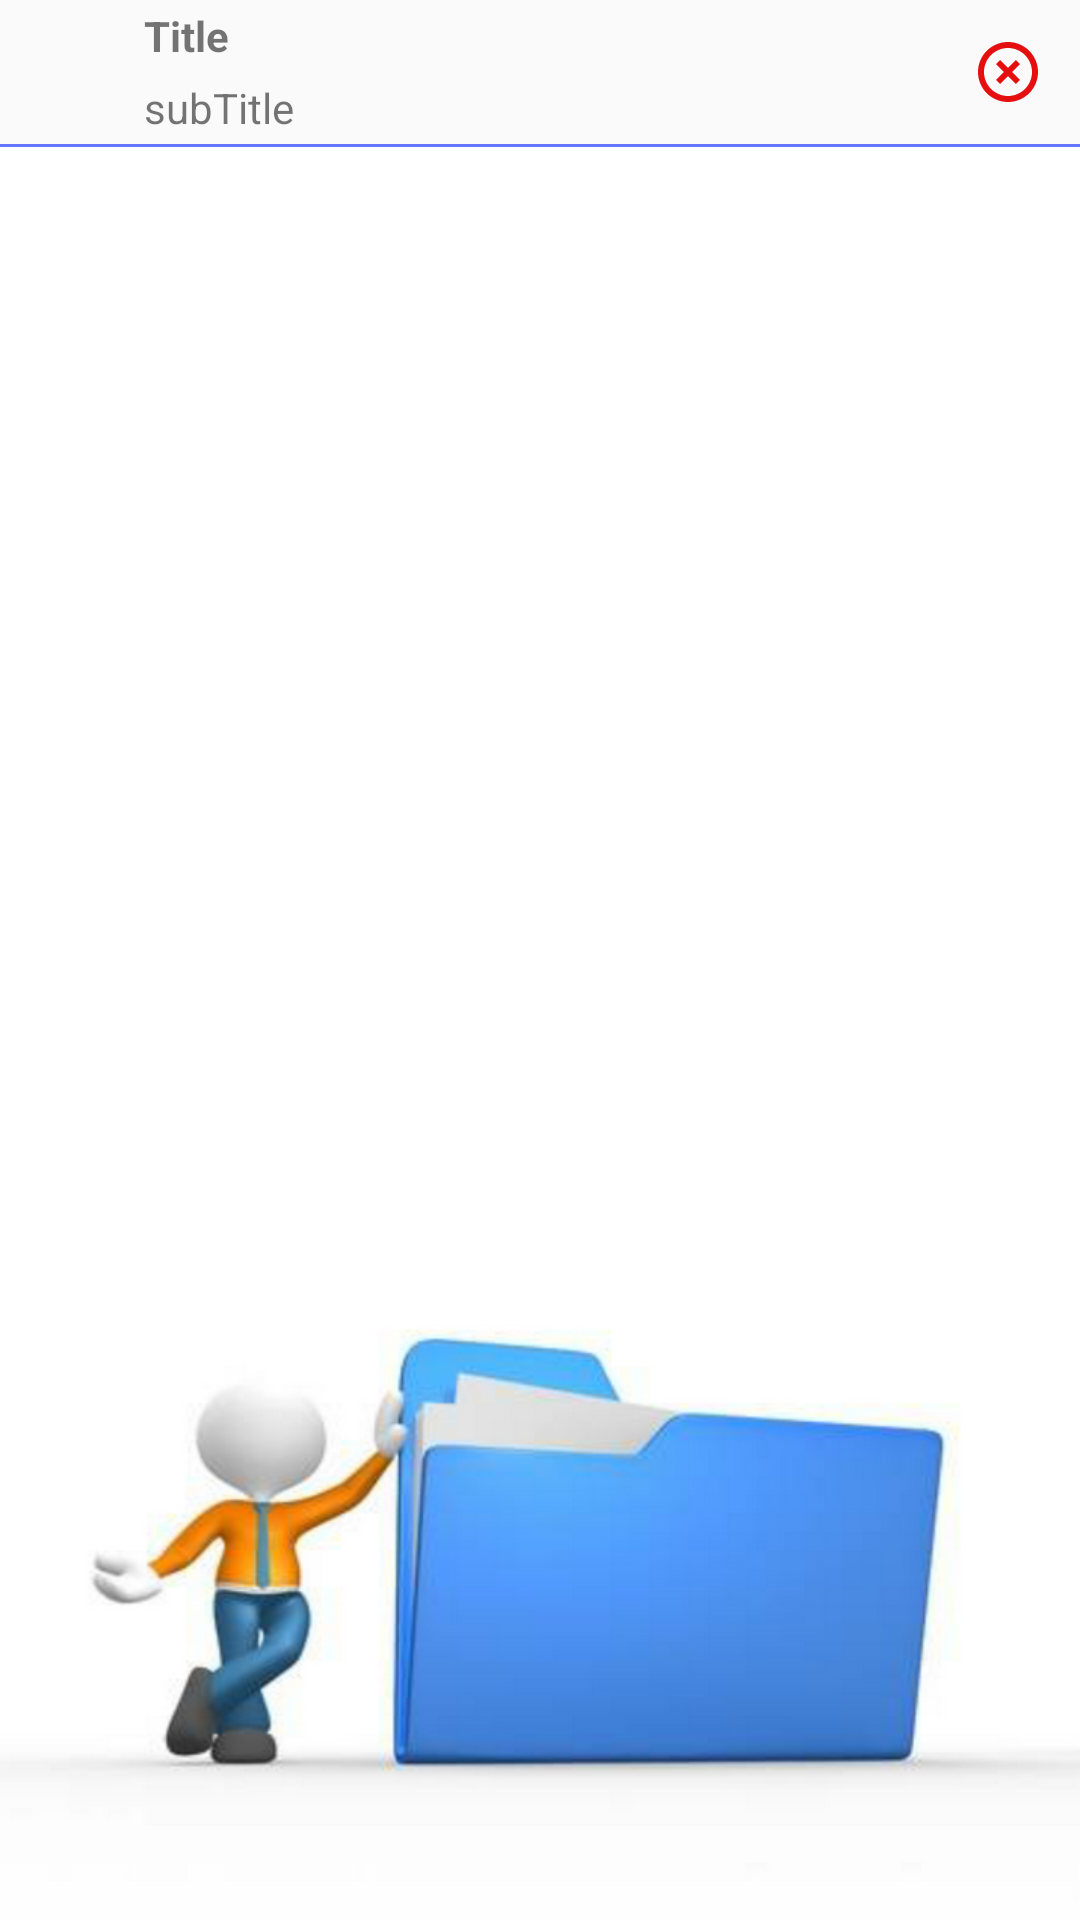

Icons on this 1080×1920 Android screen, each with the point to tap as point (x, y):
cancel: point (1008, 72)
